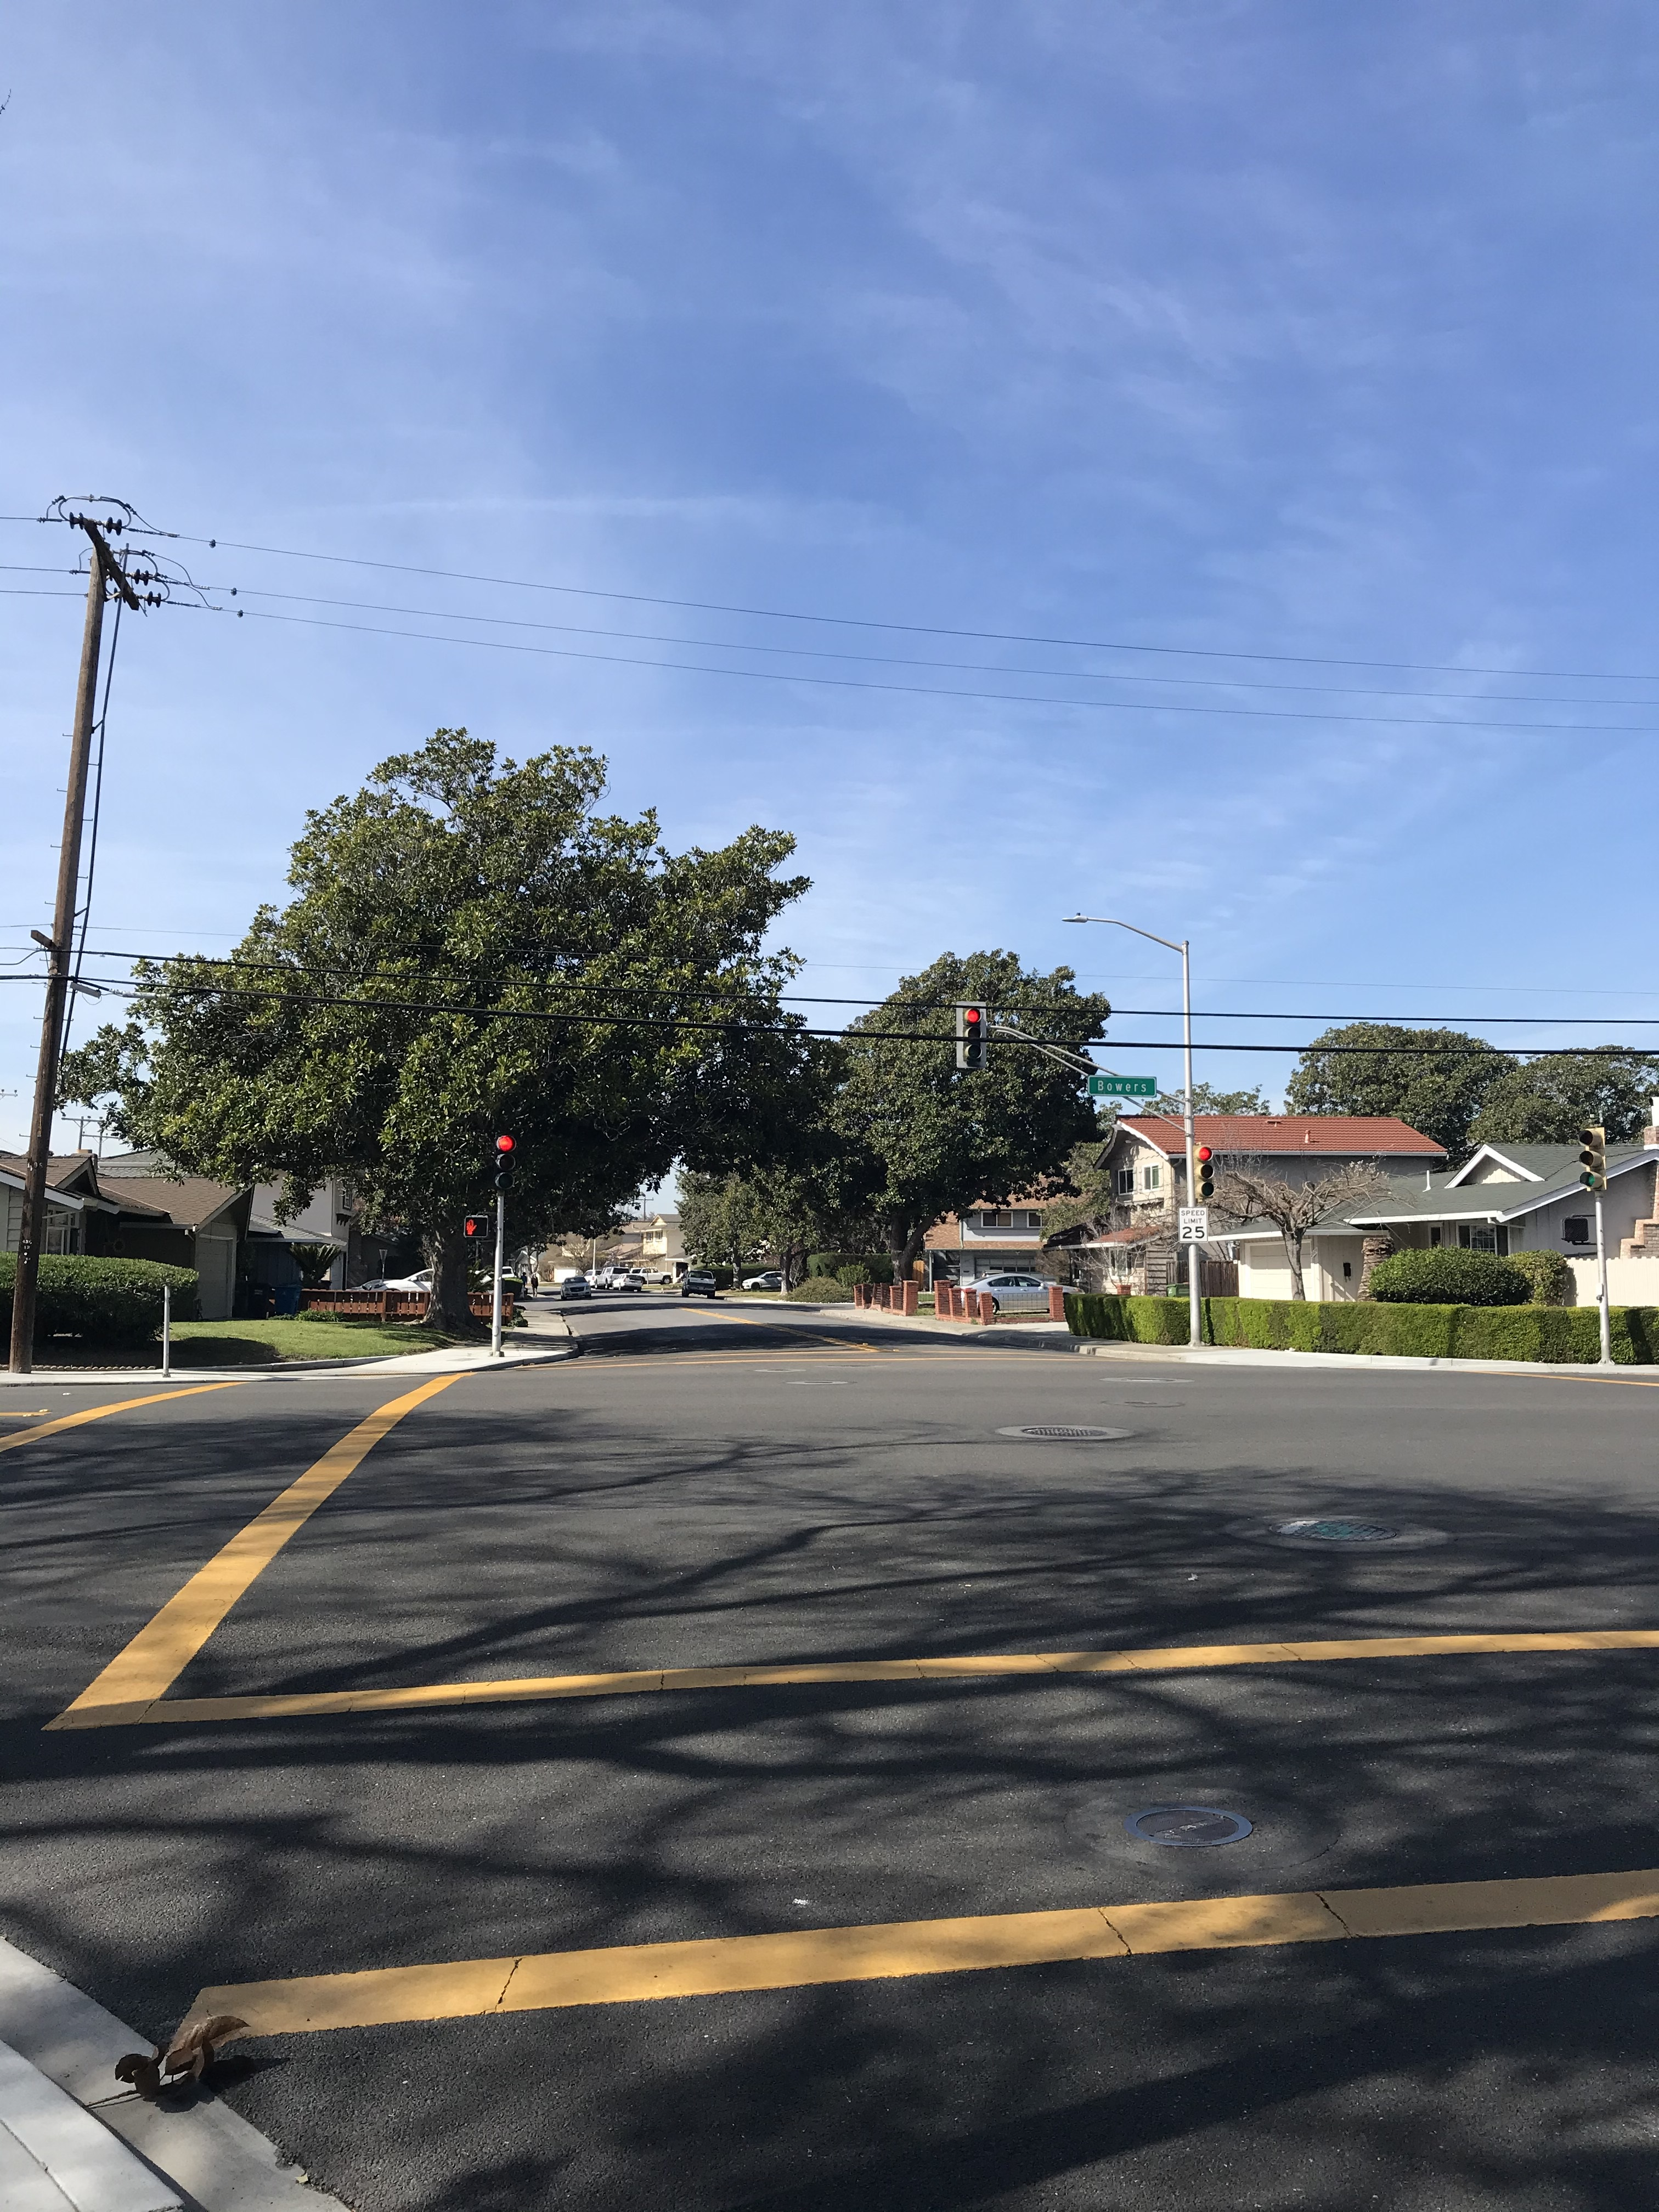red_light: (491, 1130, 521, 1191), (960, 1000, 988, 1064), (1197, 1143, 1216, 1197)
